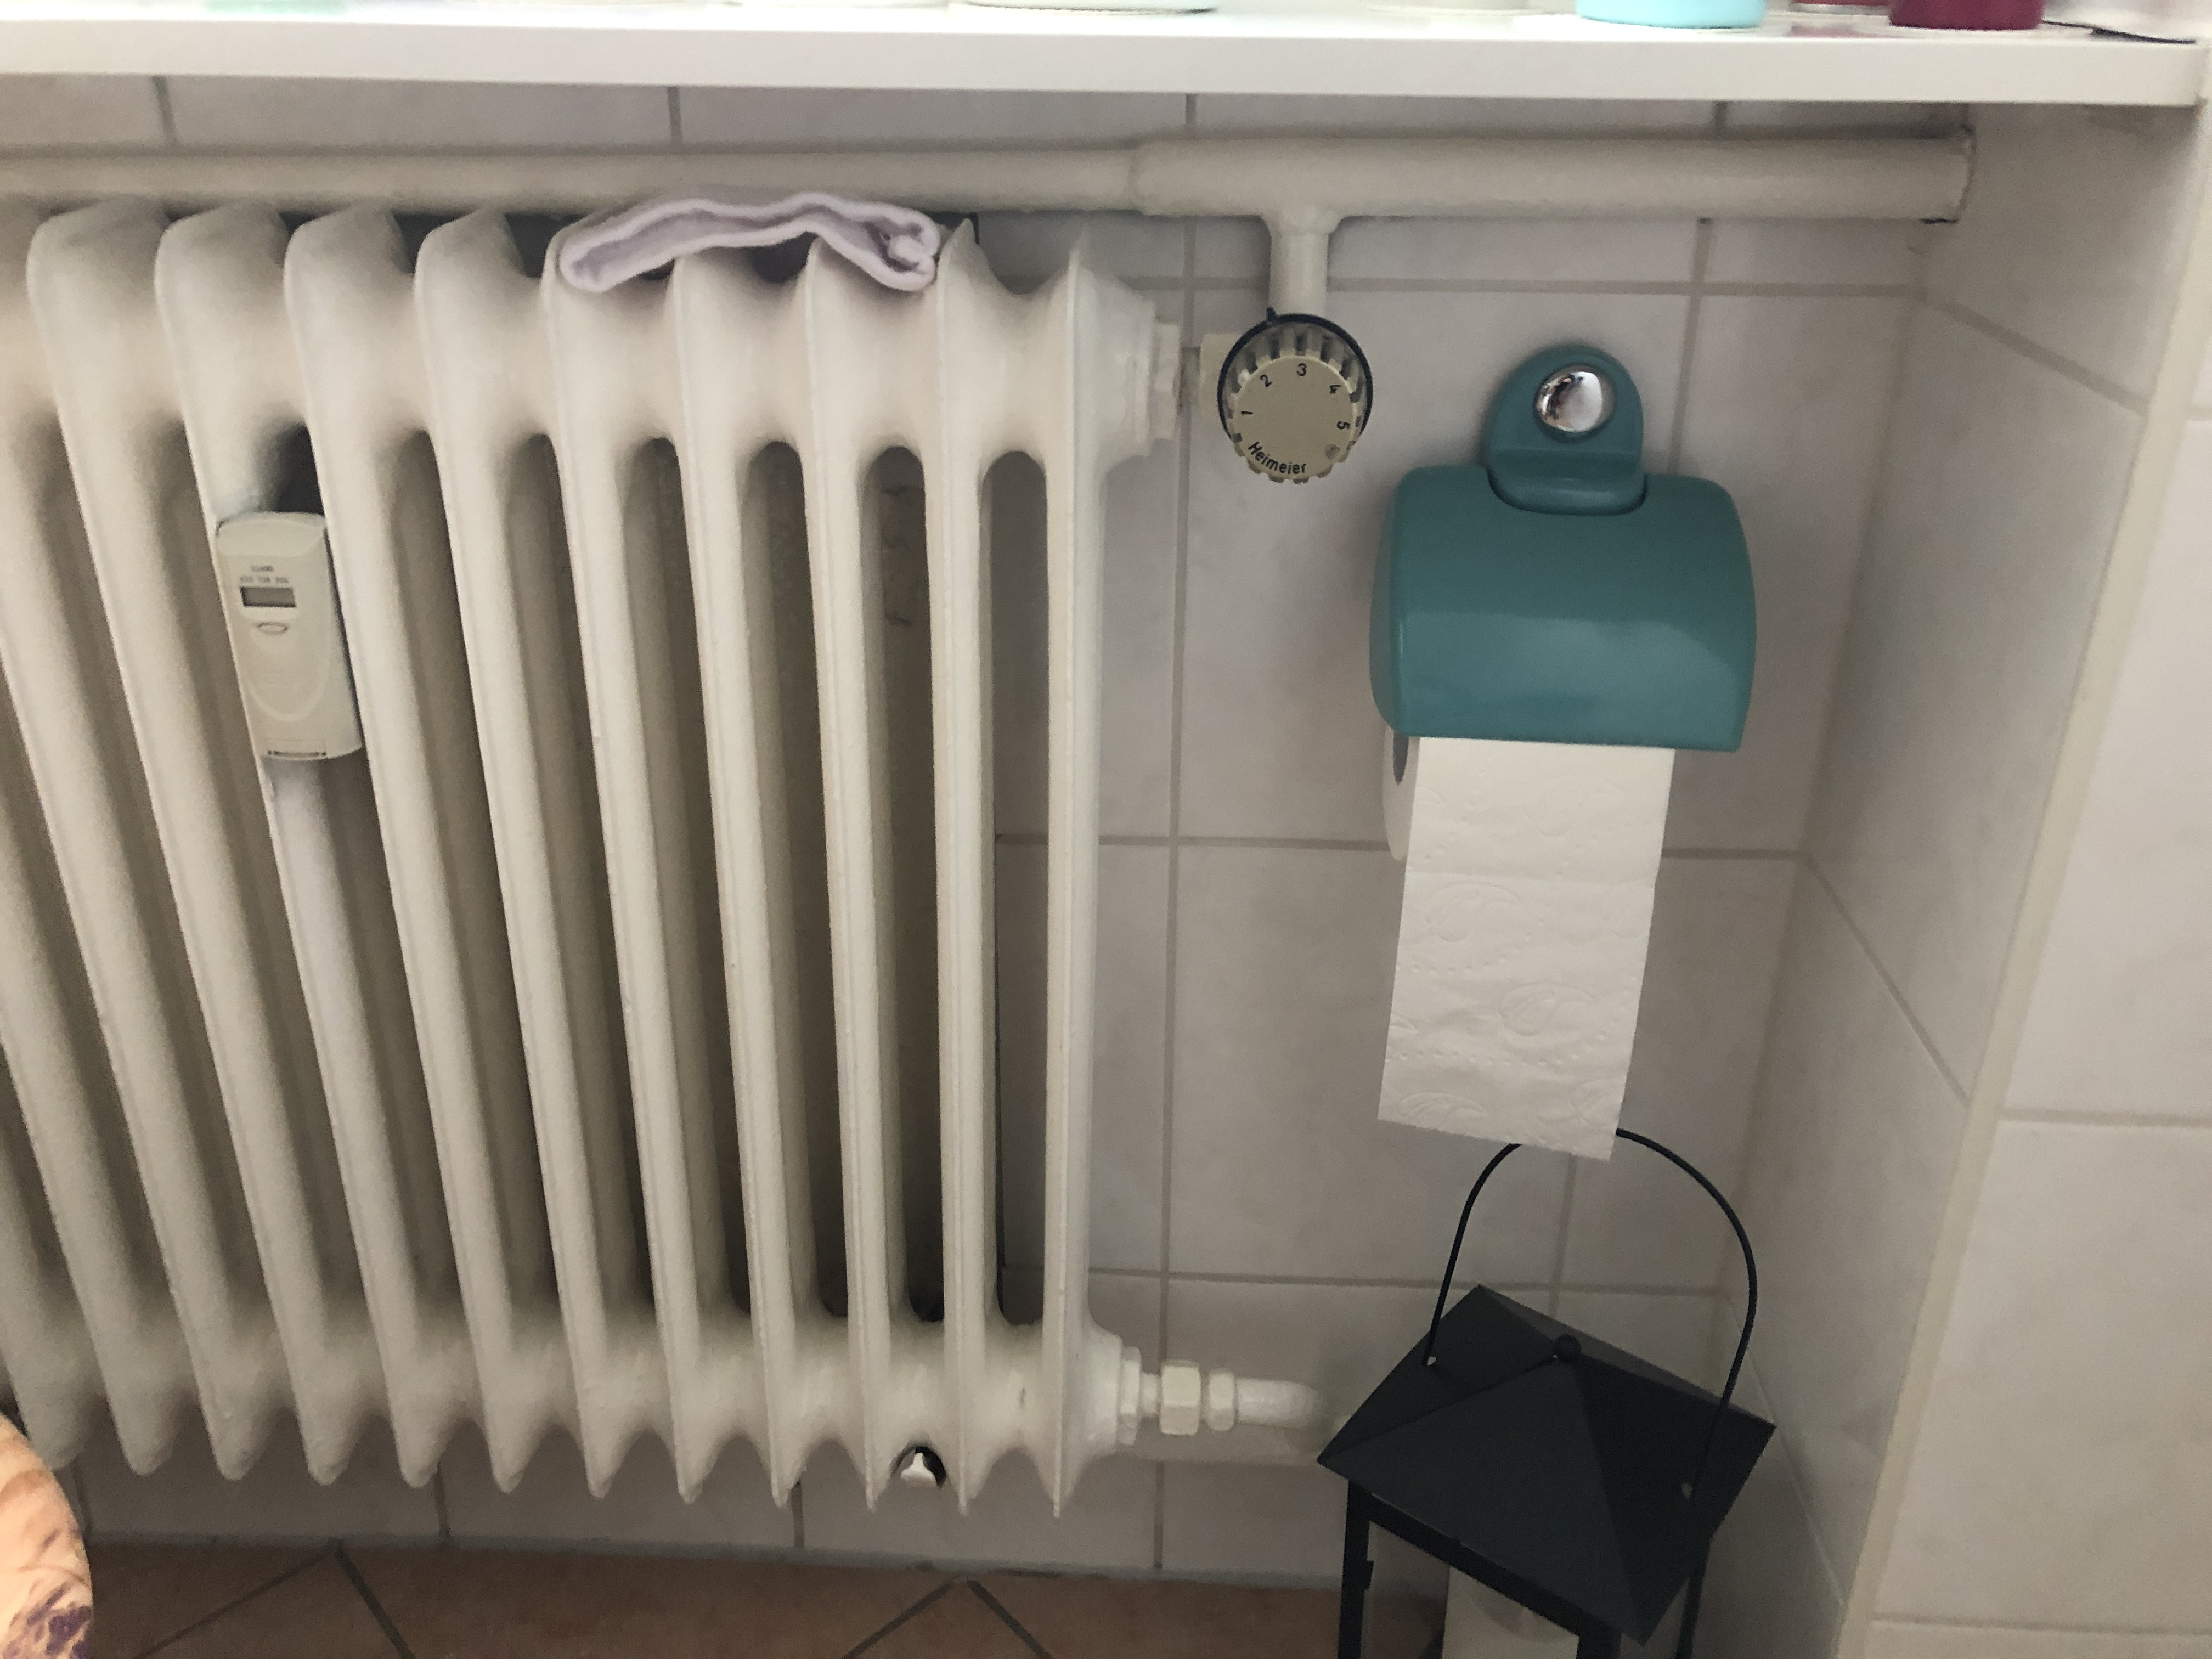Radiator: (0, 169, 1395, 1525)
